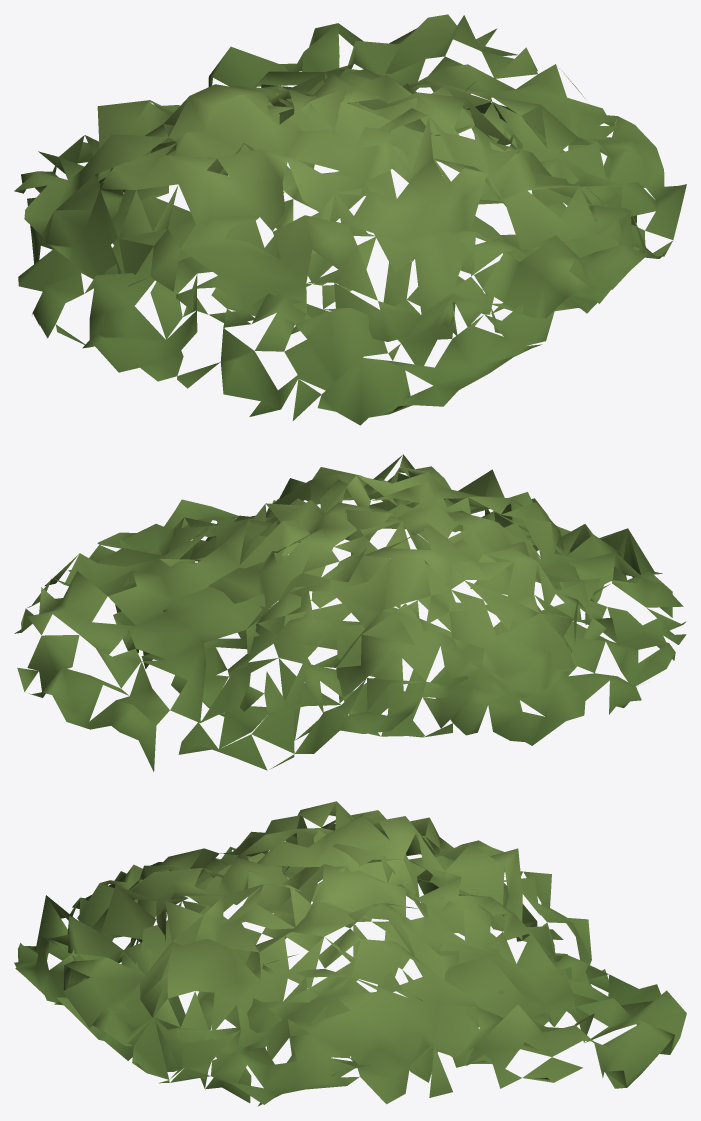
Rendered from Moss Patch A.glb.
3 views of the same model, one above another, from view 1: azimuth 30°, elevation 25°; view 2: azimuth 150°, elevation 25°; view 3: azimuth 270°, elevation 25° (orthographic). The views are drawn at different scales.
Parts seen in each view (by area): view 1: Moss Patch A; view 2: Moss Patch A; view 3: Moss Patch A.
Boxes of the visible parts, box(x1,y1,x2,y2) form: Moss Patch A: box(14, 14, 686, 425); Moss Patch A: box(14, 454, 686, 771); Moss Patch A: box(14, 801, 686, 1106).
Bounding box in the file's own units: 0.4444 × 0.1326 × 0.4795.
